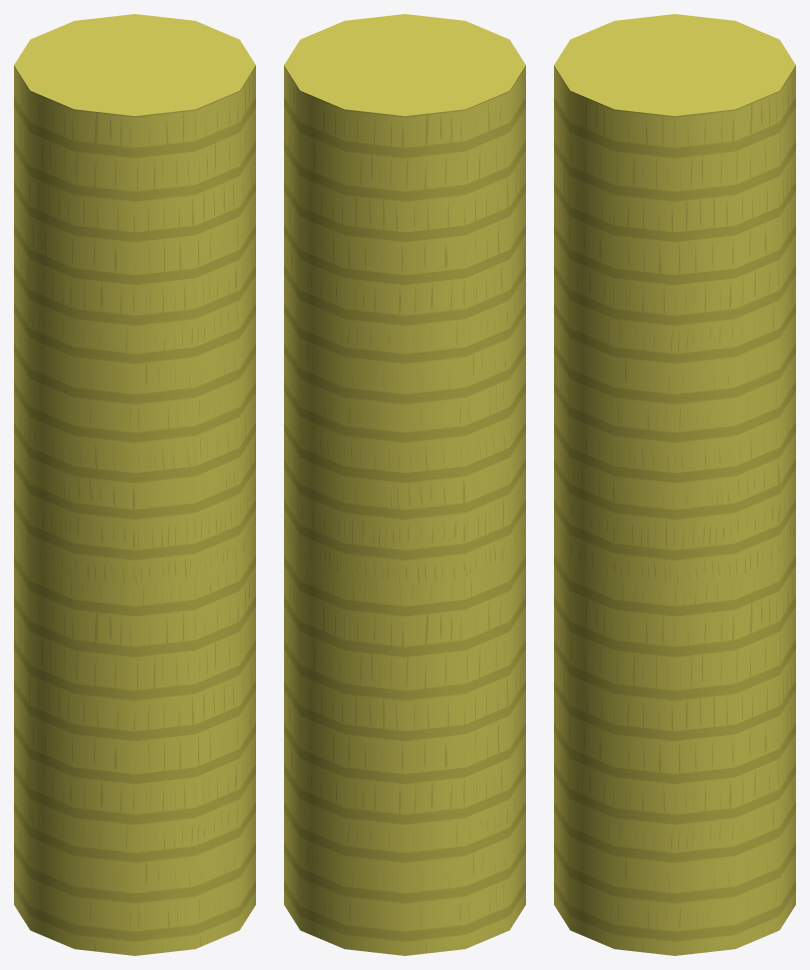
Rendered from CoinStackSmall_Med.fbx.
3 renders of one model, left to right at view 1: azimuth 30°, elevation 25°; view 2: azimuth 150°, elevation 25°; view 3: azimuth 270°, elevation 25°, orthographic.
Parts seen in each view (by area): view 1: Cylinder017; view 2: Cylinder017; view 3: Cylinder017.
Part boxes in pixels (x1=…): Cylinder017: x1=14, y1=14, x2=255, y2=955; Cylinder017: x1=284, y1=14, x2=525, y2=955; Cylinder017: x1=554, y1=14, x2=795, y2=955.
Bounding box in the file's own units: 8.61 × 8.61 × 33.
3 materials, 2 textured.
